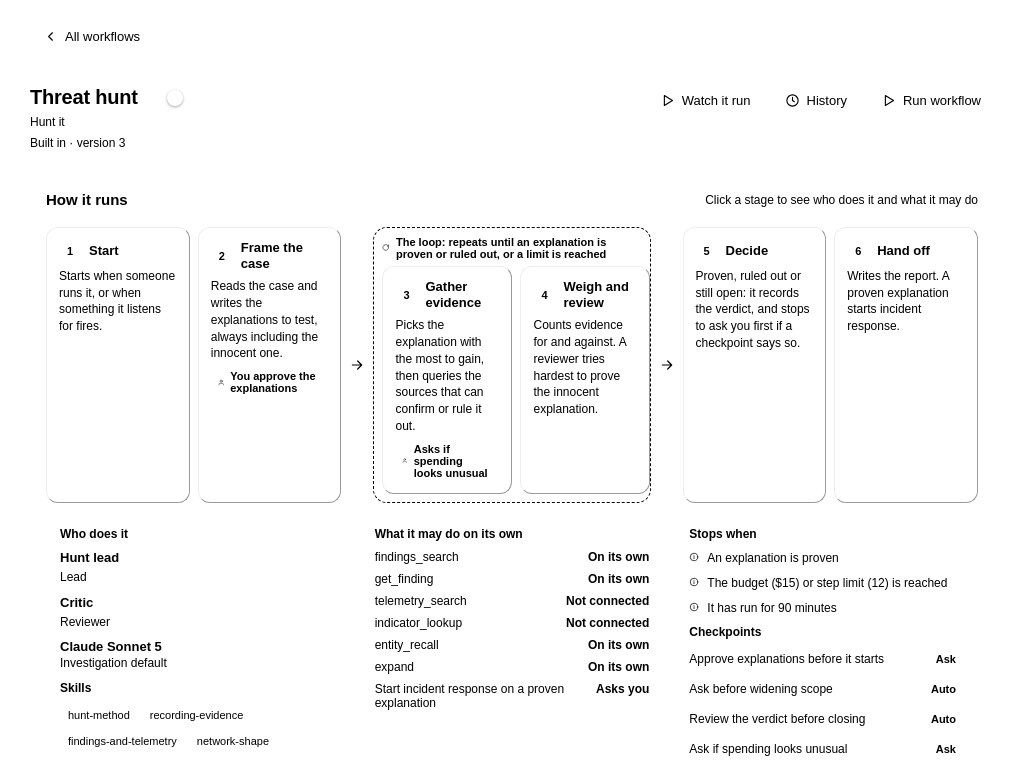
Test: workflow reader pane › draws a hunt with its loop and lets a stage filter the panels
Expected: the text "The loop: repeats until" is shown, [396, 236, 606, 260]
Expected: the text "You approve the explanations" is shown, [218, 370, 316, 394]
# Weigh and review: only the reviewer, no tools, no checkpoint
Step 1. Click the button "Weigh and review" → (586, 380), box [520, 266, 650, 494]
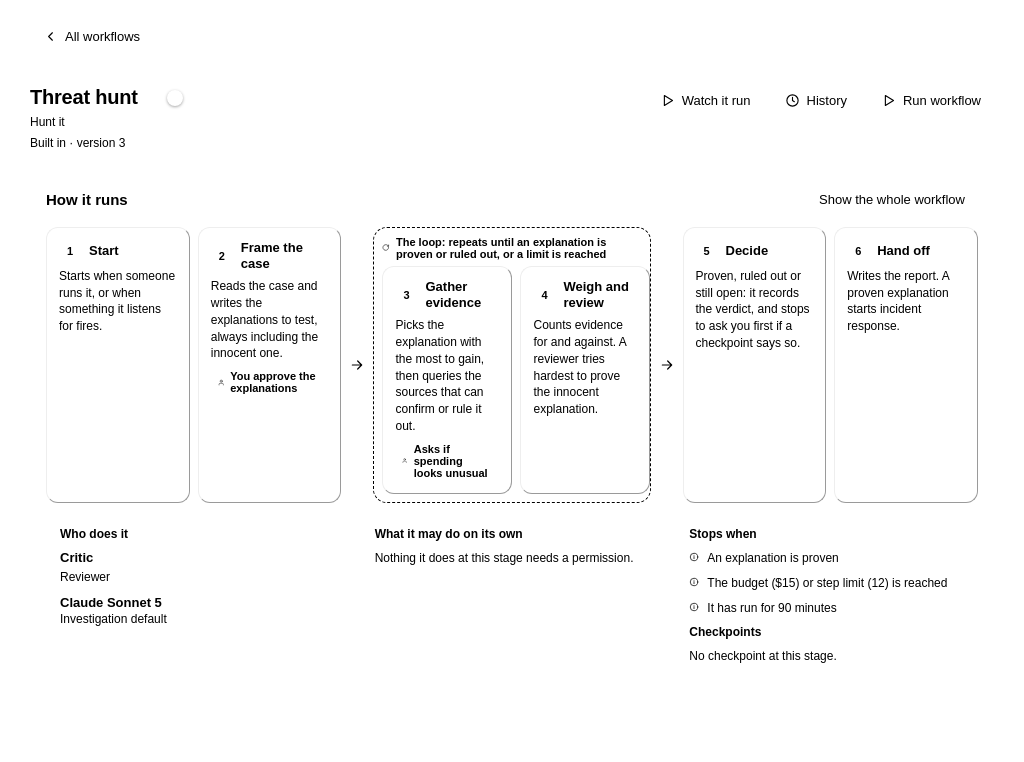
Result: the text "Hunt lead" is gone
Result: the text "Skills" is gone
Result: the text "findings_search" is gone
# Gather evidence: the lead alone, its tools, scope and spend
Step 2. Click the button "Gather evidence" → (448, 380), box [382, 266, 512, 494]
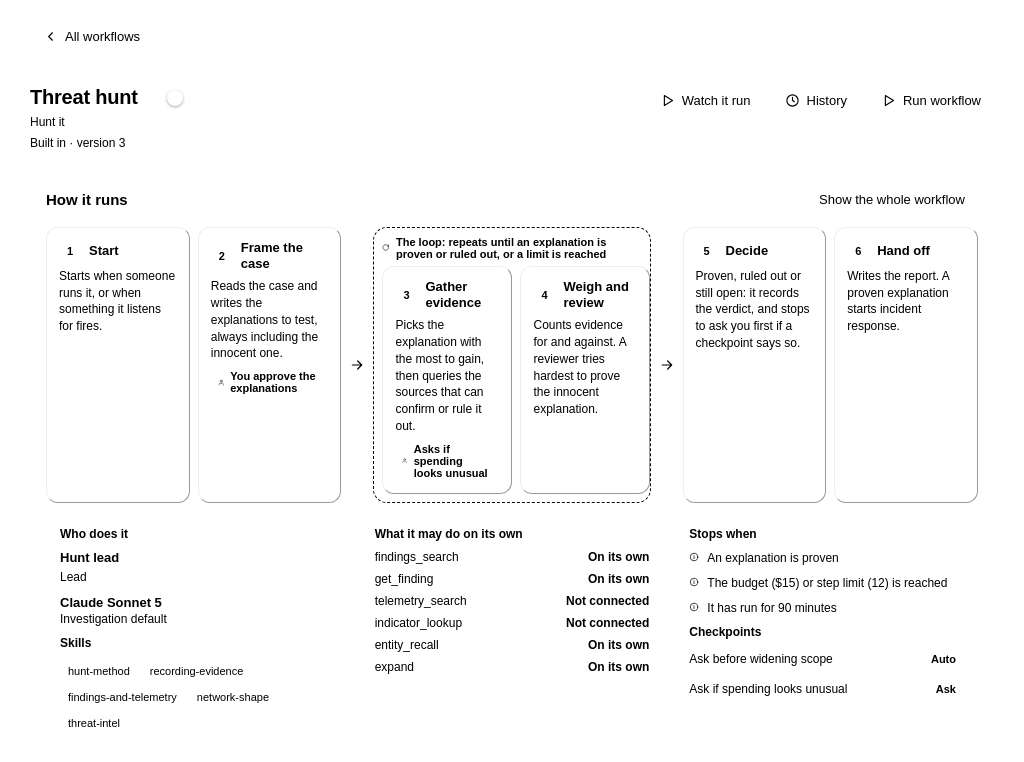
Result: the text "Hunt lead" is shown at [60, 550, 119, 566]
Result: the text "Critic" is gone
Result: the text "Skills" is shown at [60, 636, 91, 650]
# Hand off: the handoff row, and it is the same stage again that clears the filter
Step 3. Click the button "Hand off" → (906, 365), box [834, 227, 978, 503]
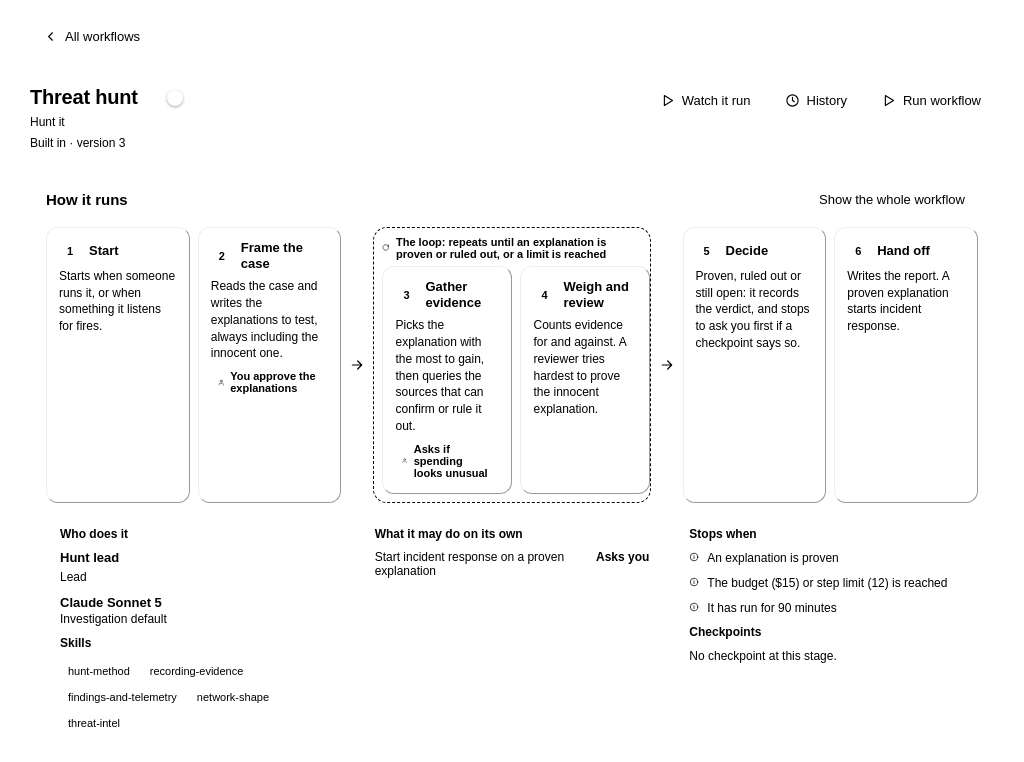
Result: the text "Start incident response on a proven explanation" is shown at [375, 550, 588, 578]
Step 4. Click the button "Show the whole workflow" → (892, 200), box [806, 184, 978, 215]
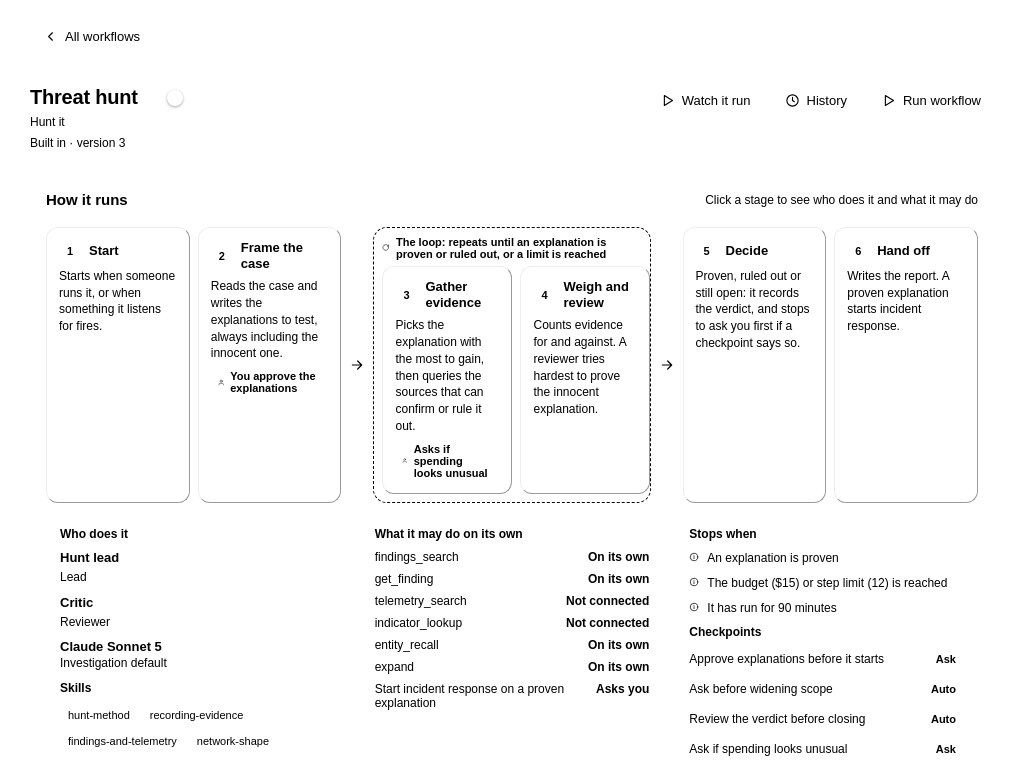
Result: the text "Critic" is shown at [60, 595, 93, 610]
